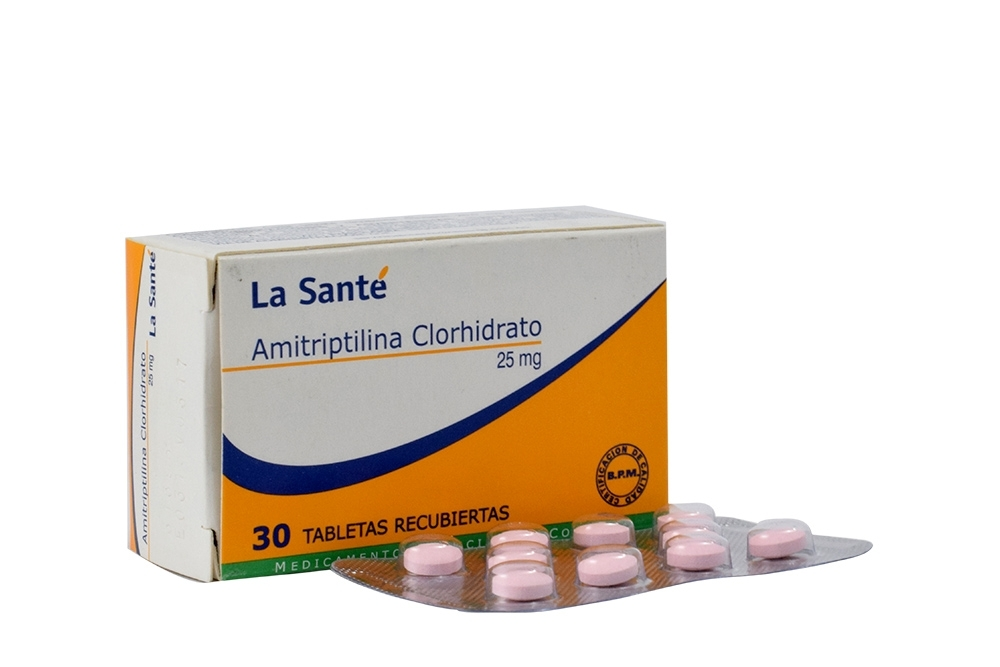LaSante: (217, 239, 666, 575)
